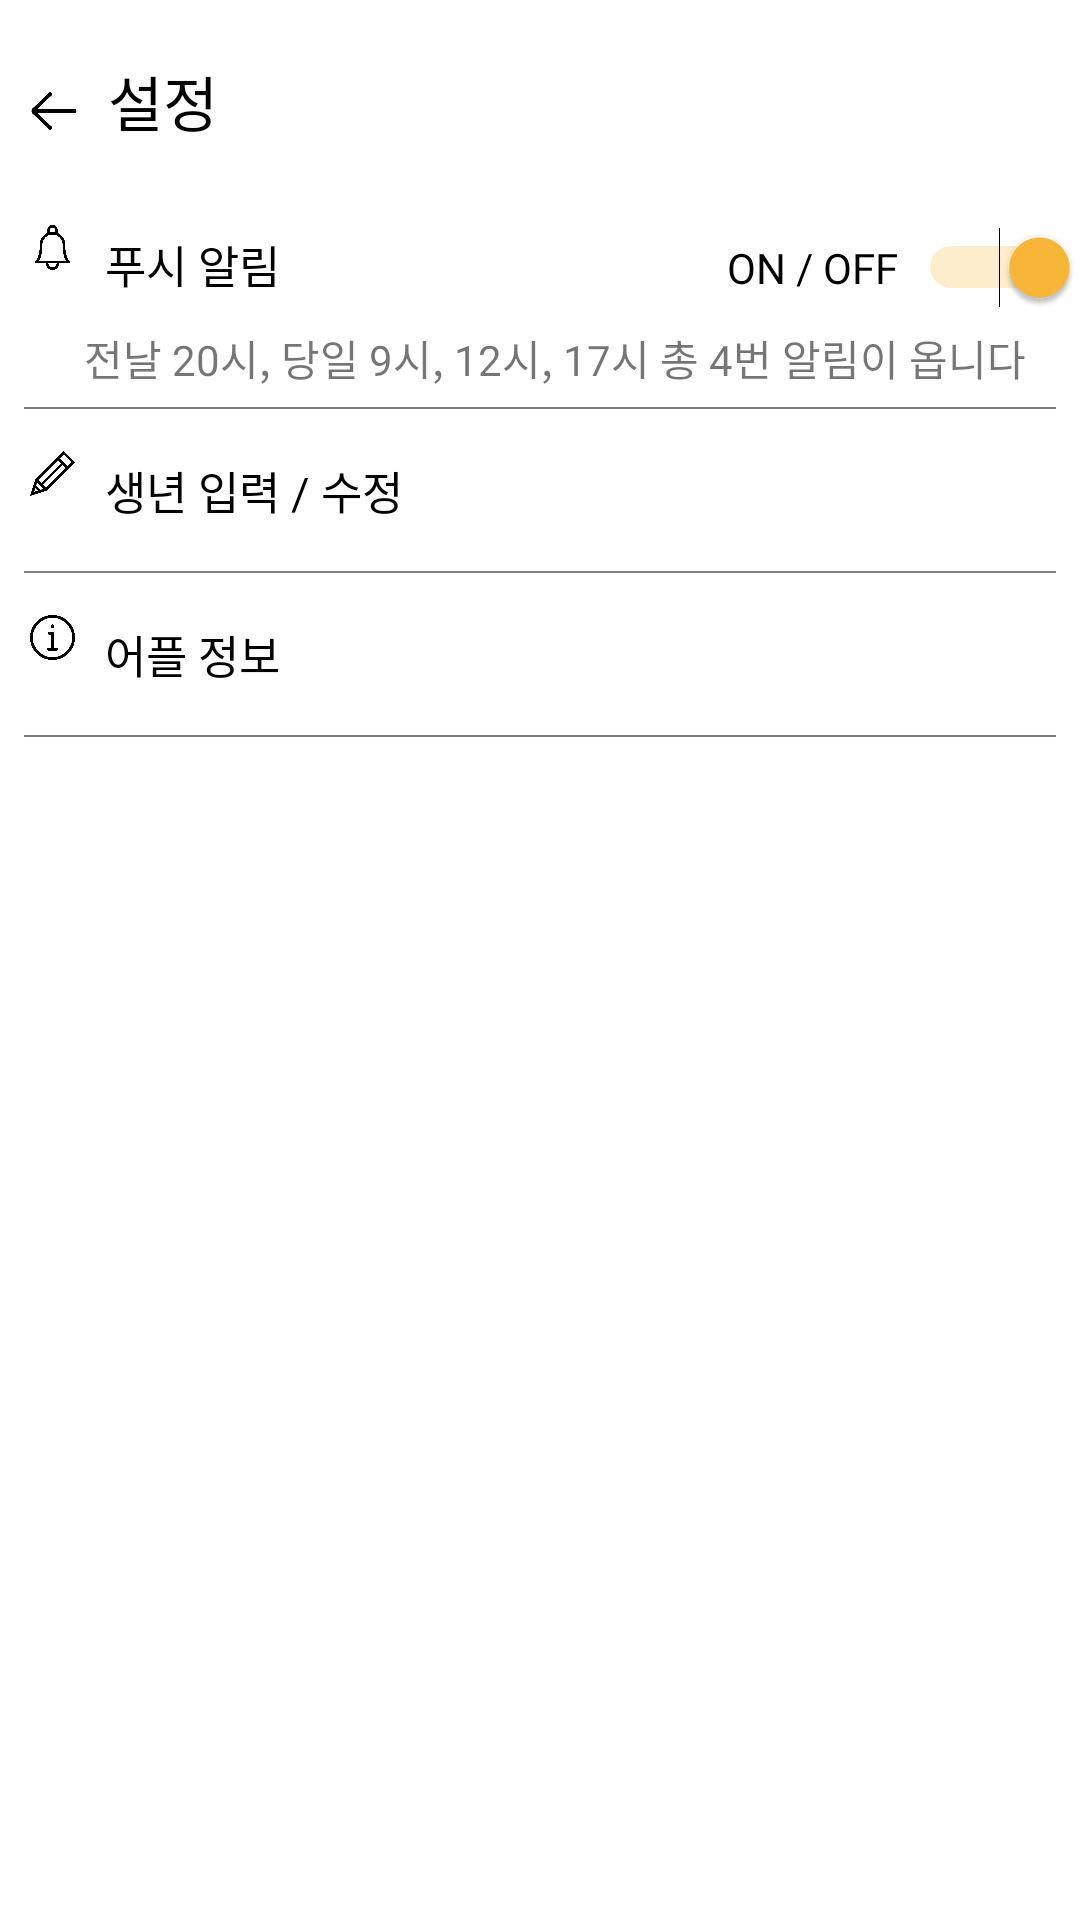

Screen size 1080*1920. Icon name, then its center in pixels as (x,y):
back: (54,111)
bell: (52,247)
info: (52,637)
pencil: (52,473)
